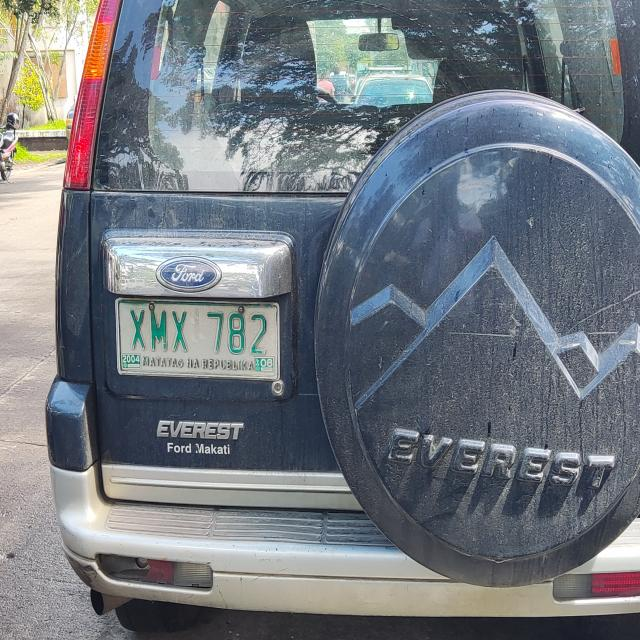plate: (112, 294, 282, 383)
